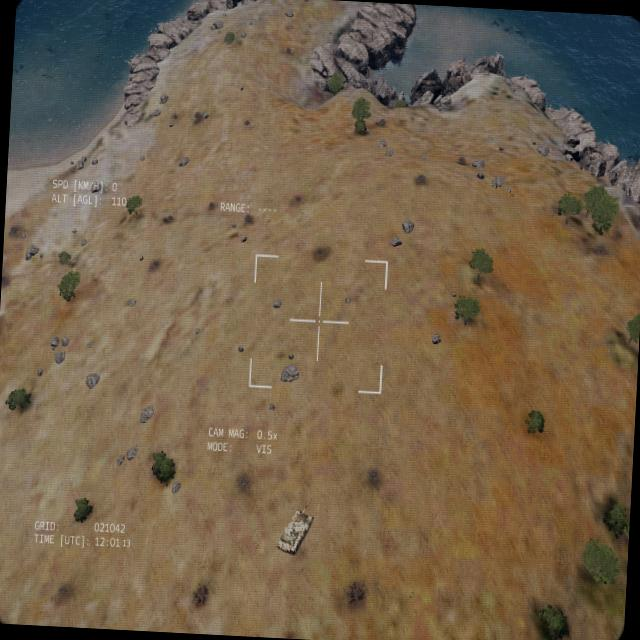tank: (275, 492, 316, 557)
